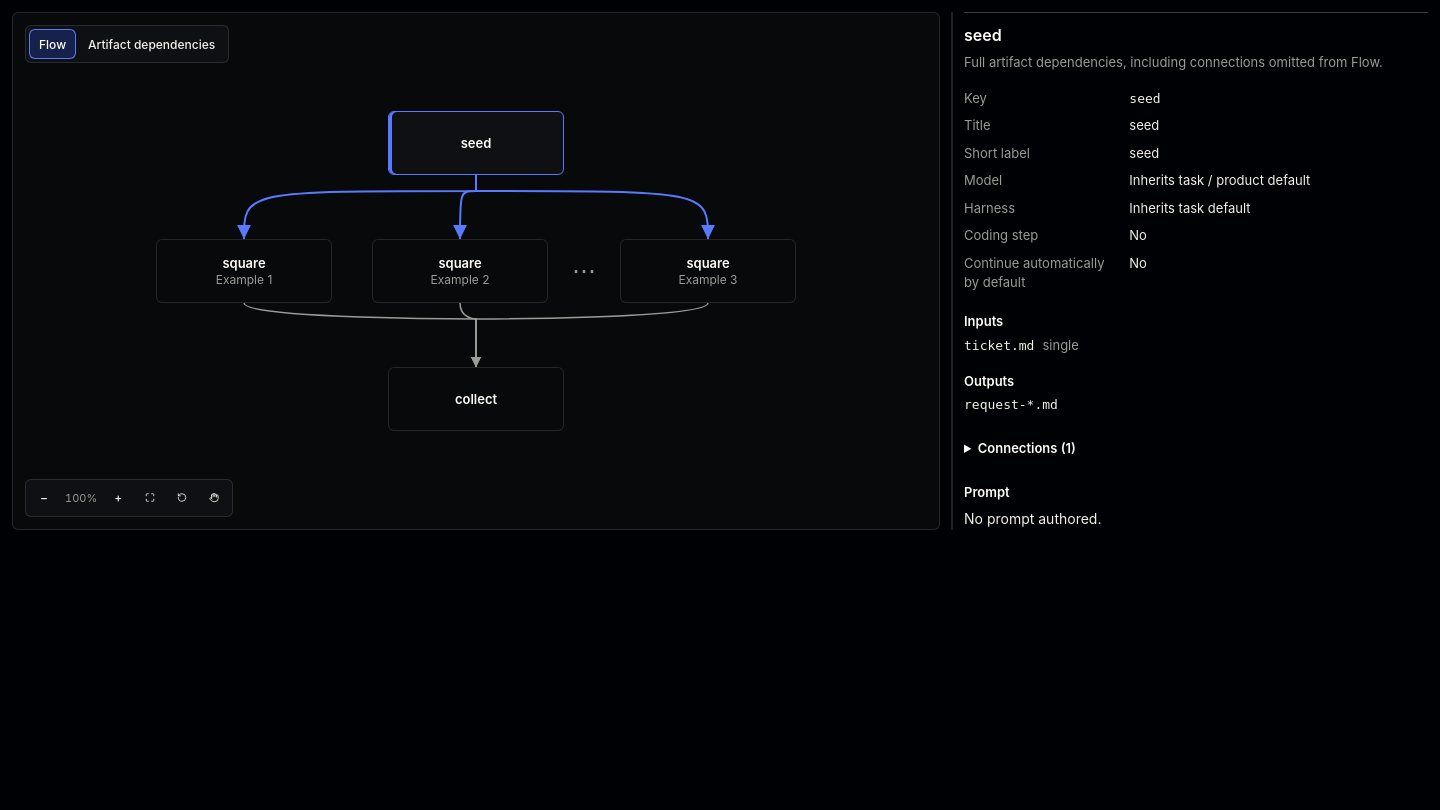
Test case: keeps wildcard illustrations in Flow and discloses artifact labels in dependencies
expect the number of buttons named "Inspect square — example" is 3: met, box [156,239,332,303]; [372,239,548,303]; [620,239,796,303]
expect the number of buttons named "Inspect collect" is 1: met, box [388,367,564,431]
Click the button "Artifact dependencies".
click(152, 44)  # box [78,29,225,59]
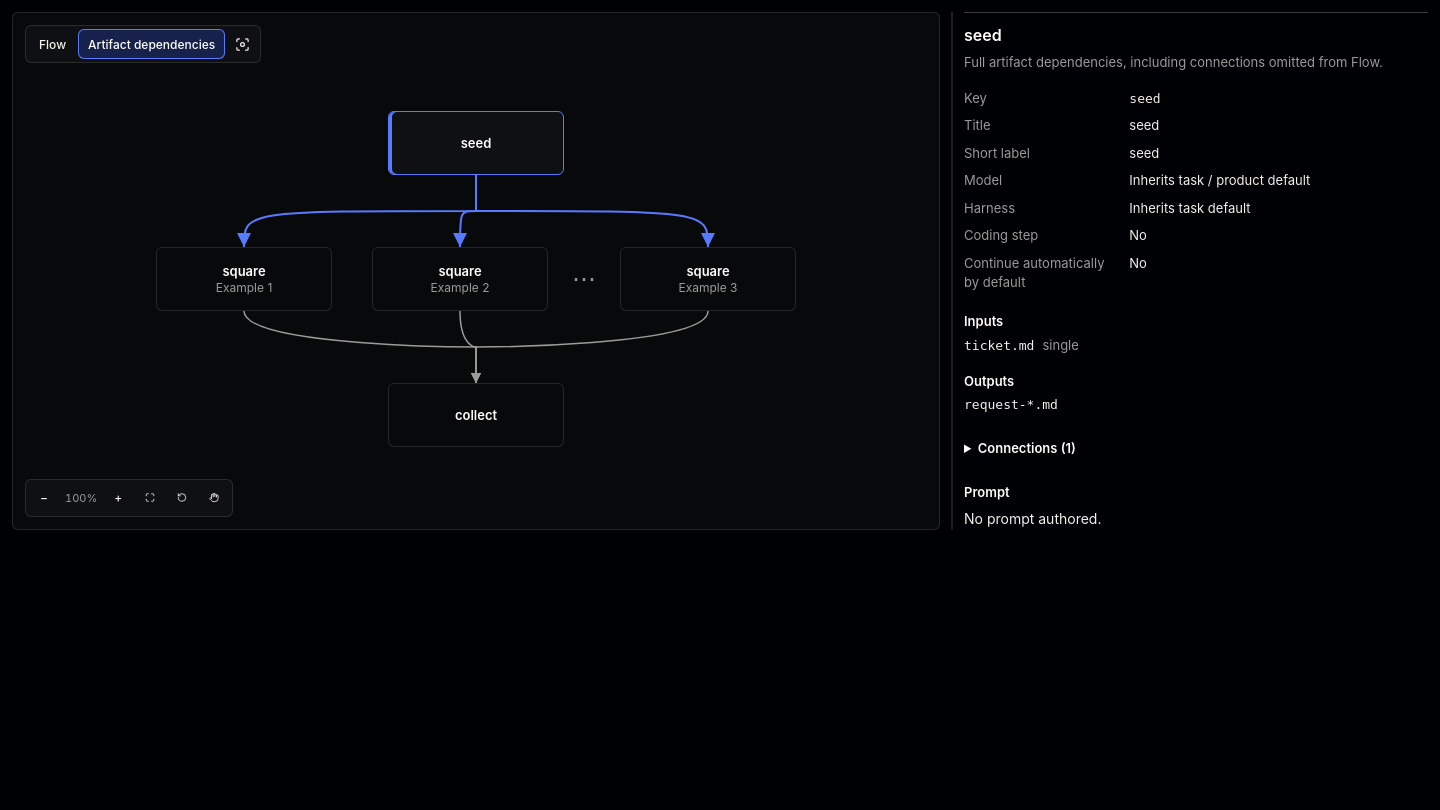
expect the text "result-square.md" is not shown: met
Hover over the button with aria-label "Inspect square — example".
mouse_move(460, 279)  # box [372,247,548,311]
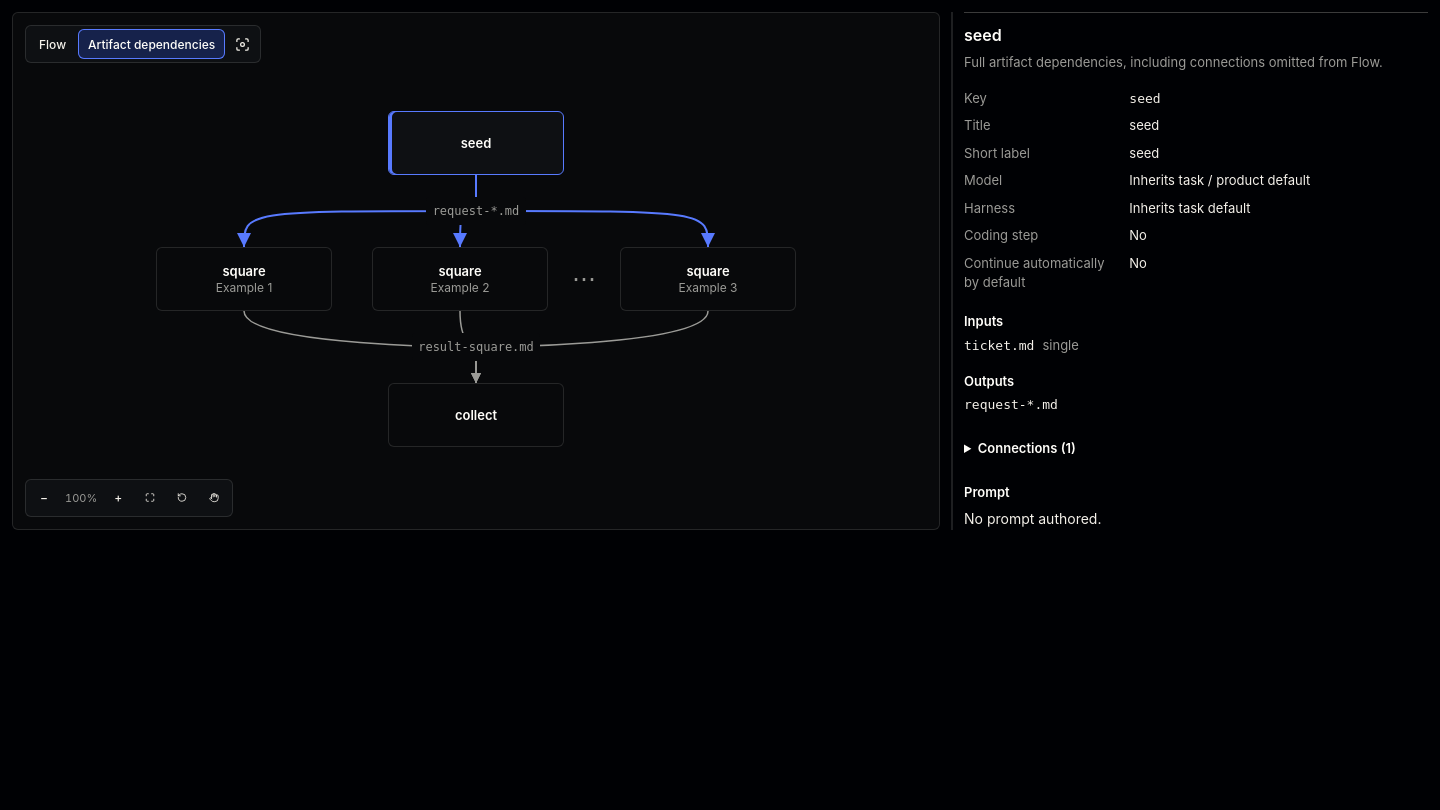
expect the text "request-*.md" is shown: met, box [426,197,526,225]
expect the text "result-square.md" is shown: met, box [412,333,540,361]
Move the pointer off the button with aria-label "Inspect square — example", box [372,247,548,311]
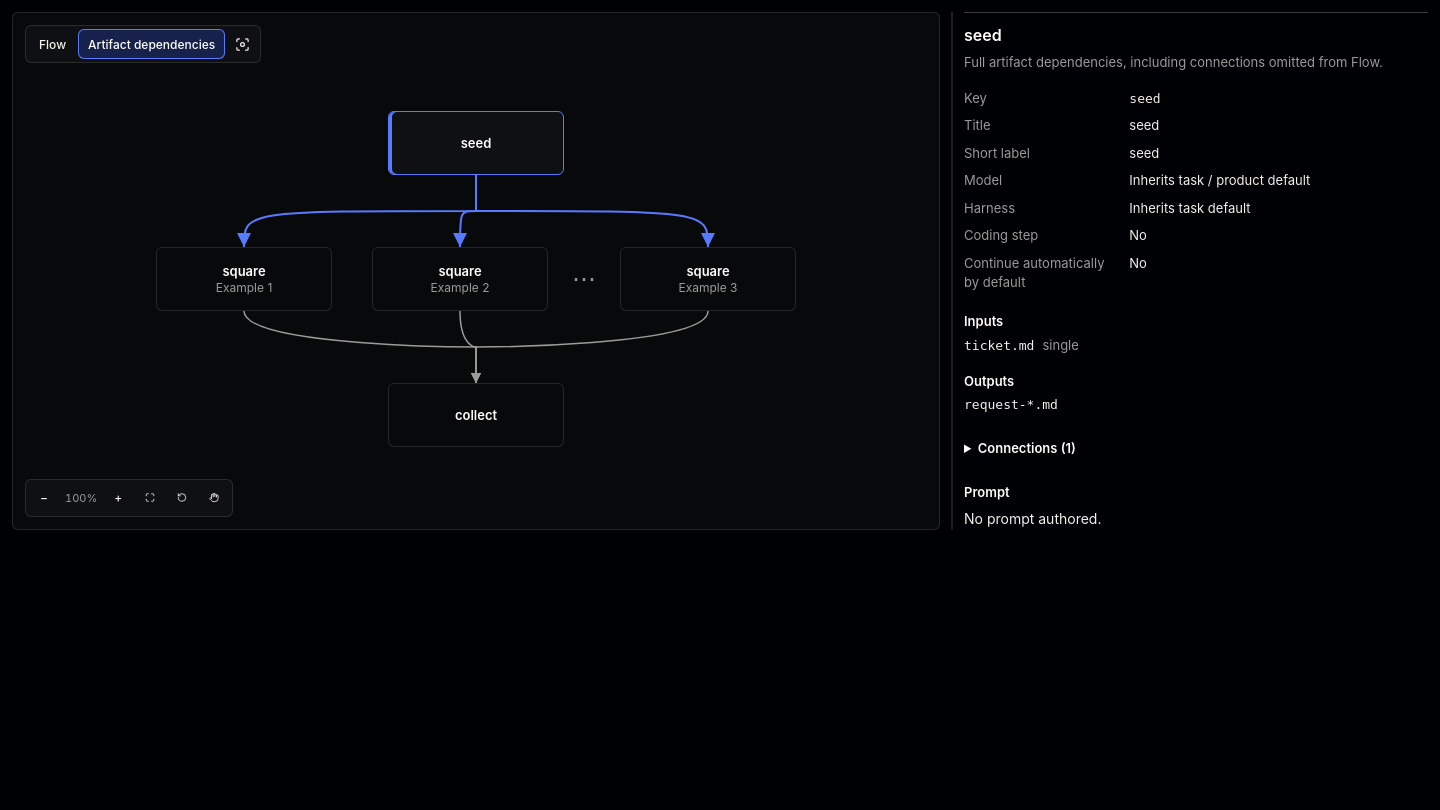
Click the button with aria-label "Inspect square — example".
click(460, 279)  # box [372,247,548,311]
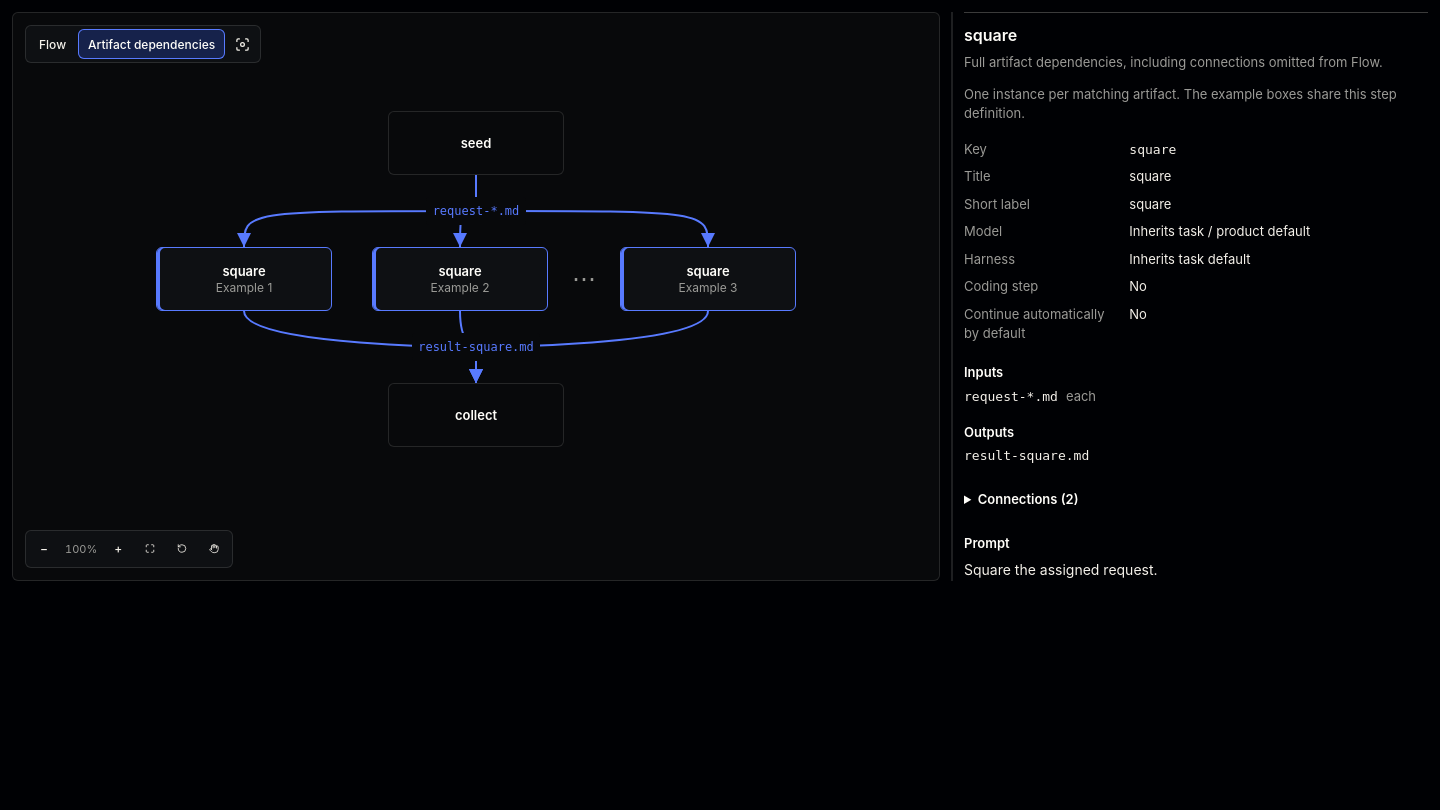
expect the text named "square prompt" reads "Square the assigned request.": met, box [964,560,1158,578]
